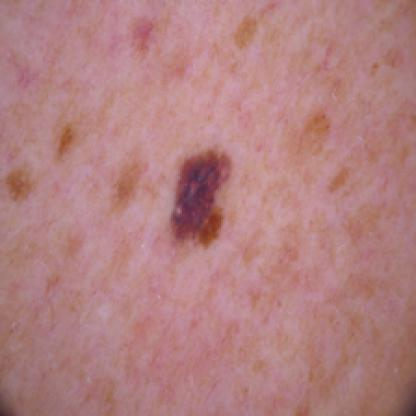benign: (158, 137, 264, 249)
